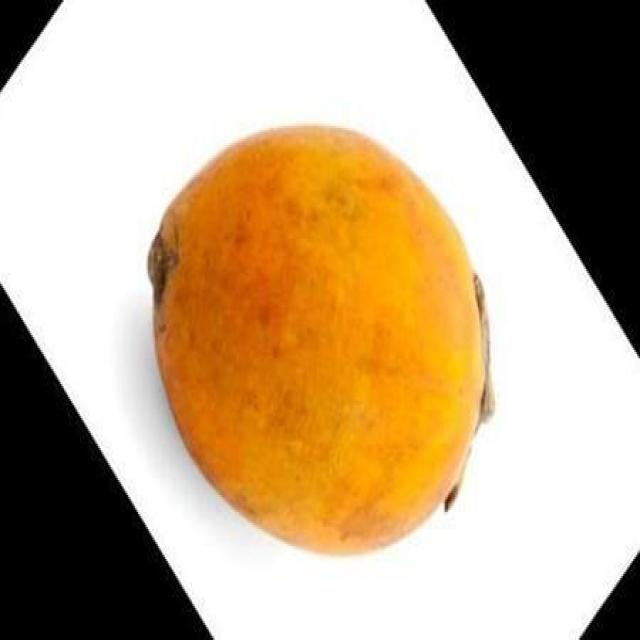good: (145, 124, 489, 561)
